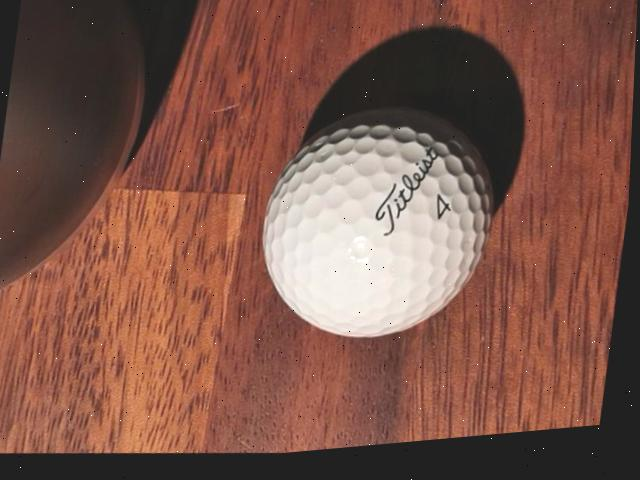Ball: (251, 96, 510, 364)
Titleist: (375, 151, 443, 249)
